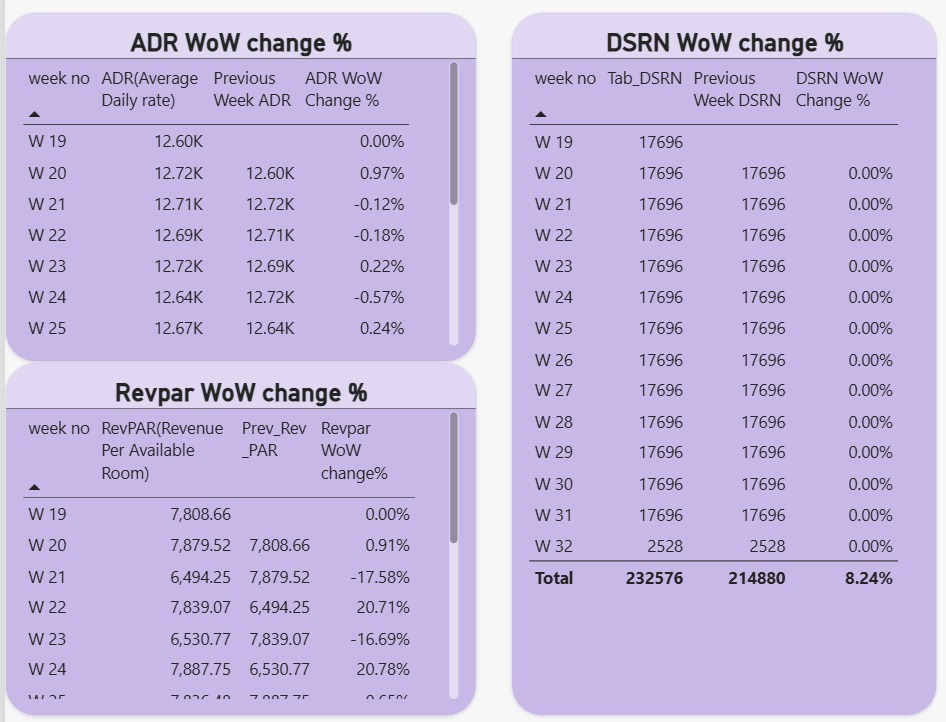

The page's visual inventory and layout, read from the dashboard file:
{"tool":"powerbi","page":{"name":"KPI - 02","canvas":[1280,720],"ordinal":2},"visuals":[{"type":"tableEx","title":"ADR WoW change %","fields":{"Values":["dim_date.week no","fact_bookings.ADR(Average Daily rate)","calender.Previous Week ADR","calender.ADR WoW Change %"]},"box":[0,0,455,360],"z":1002},{"type":"tableEx","title":"Revpar WoW change %","fields":{"Values":["dim_date.week no","fact_aggregated_bookings.RevPAR(Revenue Per Available Room)","calender.Prev_Rev_PAR","calender.Revpar WoW change %"]},"box":[0,360,455,360],"z":1003},{"type":"tableEx","title":"DSRN WoW change %","fields":{"Values":["dim_date.week no","calender.DSRN1","fact_bookings.Previous Week DSRN","fact_bookings.DSRN WoW Change %"]},"box":[455,0,411.2,612.5],"z":1004}]}

Visuals, with their boxes on the page's 1280x720 design canvas (x1, y1, x2, y2). These are canvas units, not pixel positions in the 946x722 screenshot, which may show the page scaled, cropped or inside an application window:
"ADR WoW change %" tableEx: locate(0, 0, 455, 360)
"Revpar WoW change %" tableEx: locate(0, 360, 455, 720)
"DSRN WoW change %" tableEx: locate(455, 0, 866, 612)
